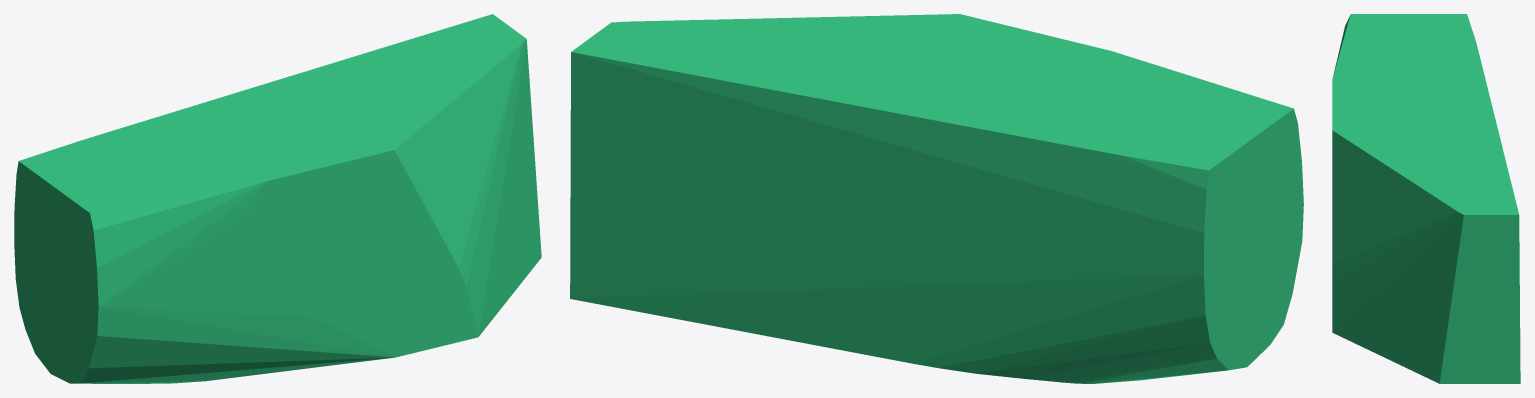
3 renders of one model, left to right at view 1: azimuth 30°, elevation 25°; view 2: azimuth 150°, elevation 25°; view 3: azimuth 270°, elevation 25°, orthographic. The views are drawn at different scales.
Size of the model in its own units: 0.048 by 0.0188 by 0.019.
